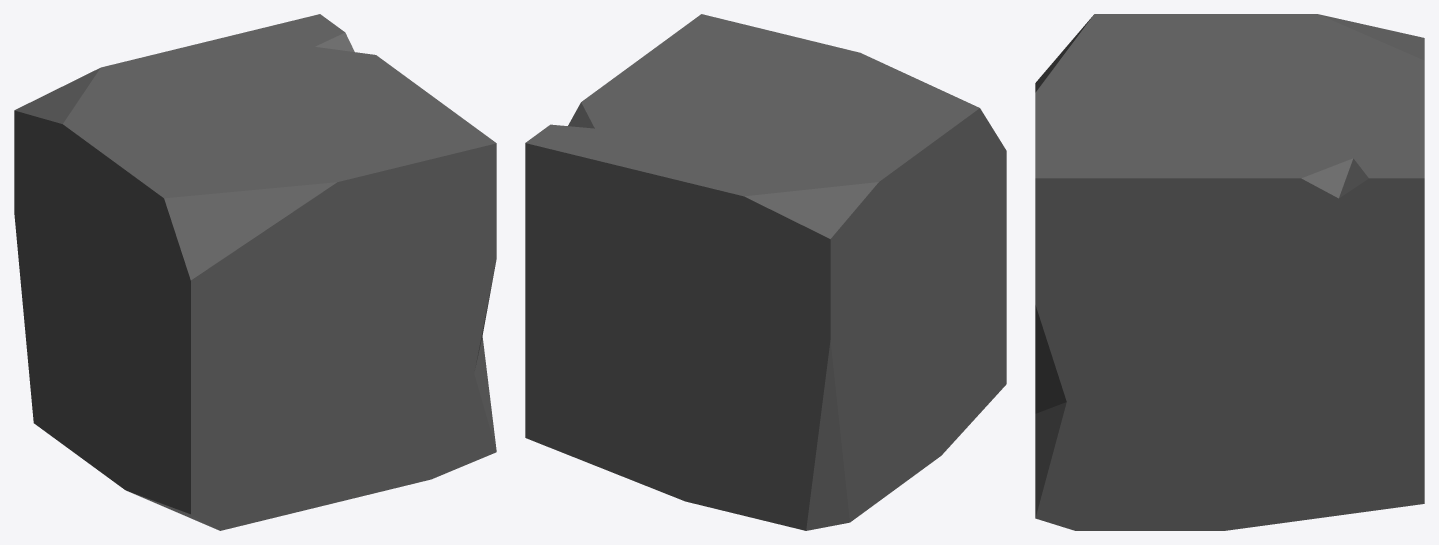
The model's file is Block_02.fbx.
3 views of the same model, side by side, from view 1: azimuth 30°, elevation 25°; view 2: azimuth 150°, elevation 25°; view 3: azimuth 270°, elevation 25° (orthographic). The views are drawn at different scales.
Visible parts, largest first — view 1: Block_02; view 2: Block_02; view 3: Block_02.
Part boxes in pixels (x1=…): Block_02: x1=14, y1=14, x2=496, y2=530; Block_02: x1=525, y1=14, x2=1006, y2=530; Block_02: x1=1035, y1=14, x2=1424, y2=530.
Size of the model in its own units: 200 by 200 by 200.
